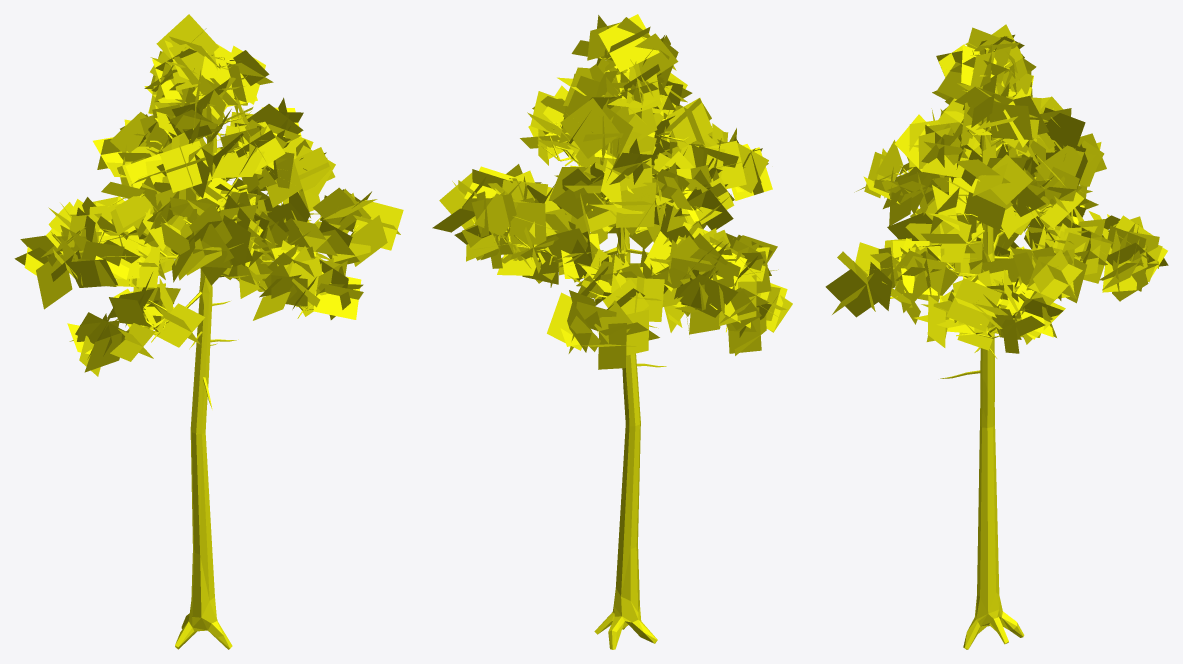
File: tree_pine.glb
3 views of the same model, side by side, from view 1: azimuth 30°, elevation 25°; view 2: azimuth 150°, elevation 25°; view 3: azimuth 270°, elevation 25° (orthographic).
Parts seen in each view (by area): view 1: Pine_LOD0, SM_Pine_LOD0; view 2: Pine_LOD0, SM_Pine_LOD0; view 3: Pine_LOD0, SM_Pine_LOD0.
Boxes of the visible parts, x1,y1,x2,y2 form: Pine_LOD0: [14, 14, 403, 376]; SM_Pine_LOD0: [47, 45, 358, 649]; Pine_LOD0: [432, 14, 792, 369]; SM_Pine_LOD0: [472, 57, 727, 649]; Pine_LOD0: [825, 24, 1168, 353]; SM_Pine_LOD0: [890, 48, 1106, 649].
Bounding box in the file's own units: 8.74 × 15.15 × 7.57.
